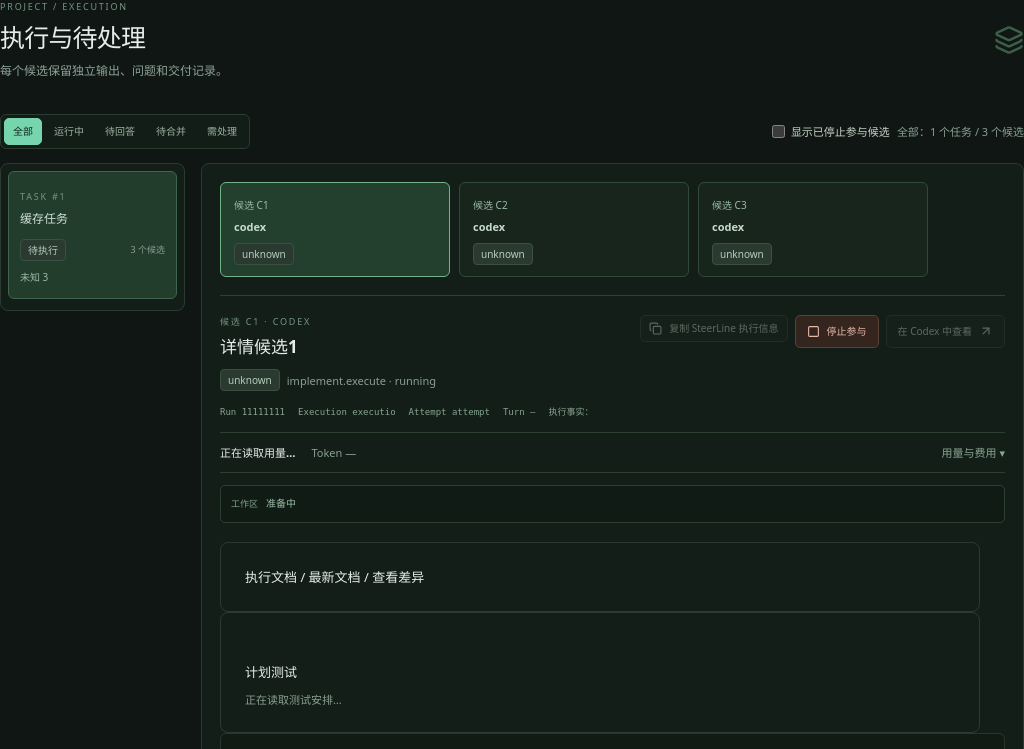
Test: separates applied stop from a delayed candidate snapshot
The image size is (1024, 749).
Click the button "停止参与" at (836, 331), box [794,315,878,348]
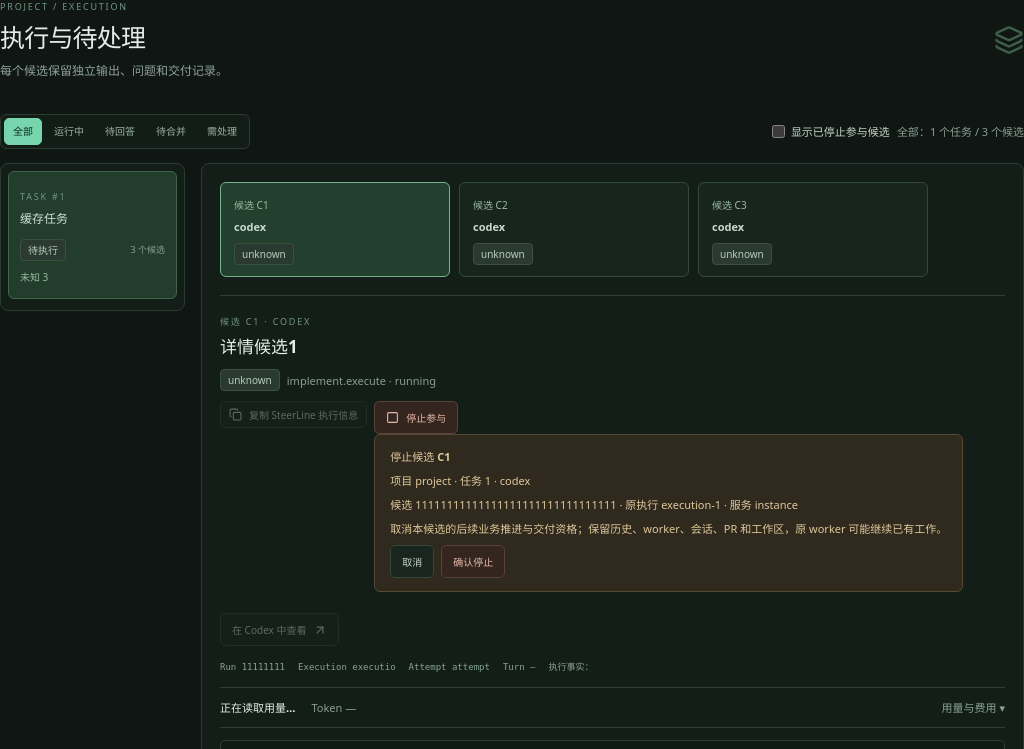
Click the button "确认停止" at (473, 562), box [441,546,505,578]
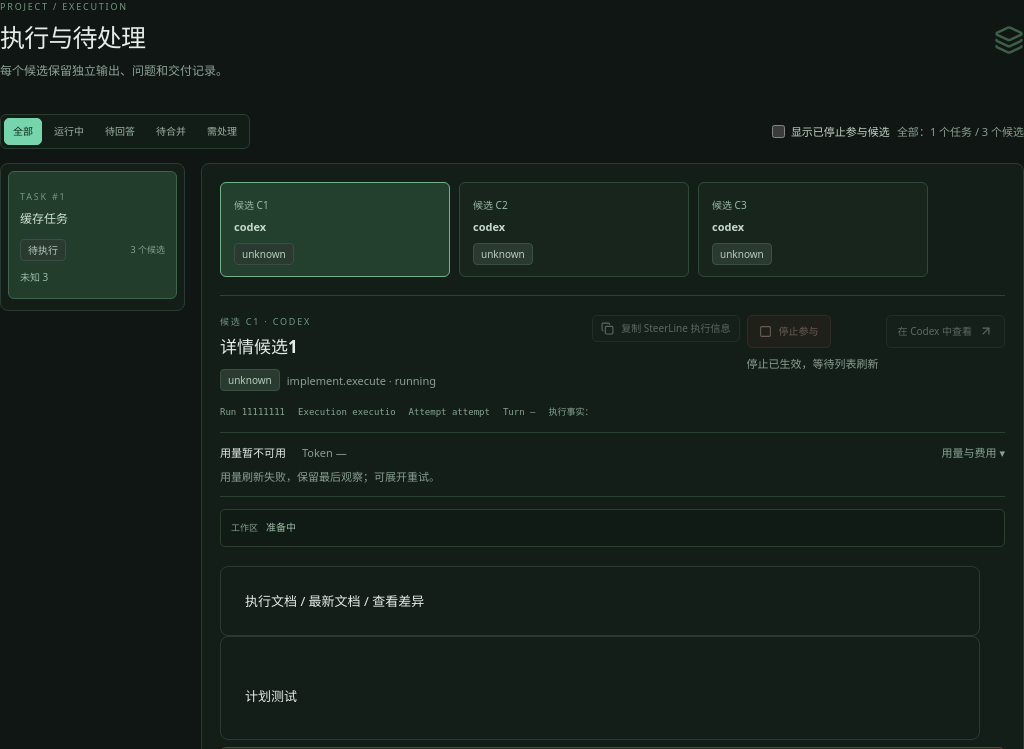
Now the button "停止参与" is disabled, box [746,315,830,348]
